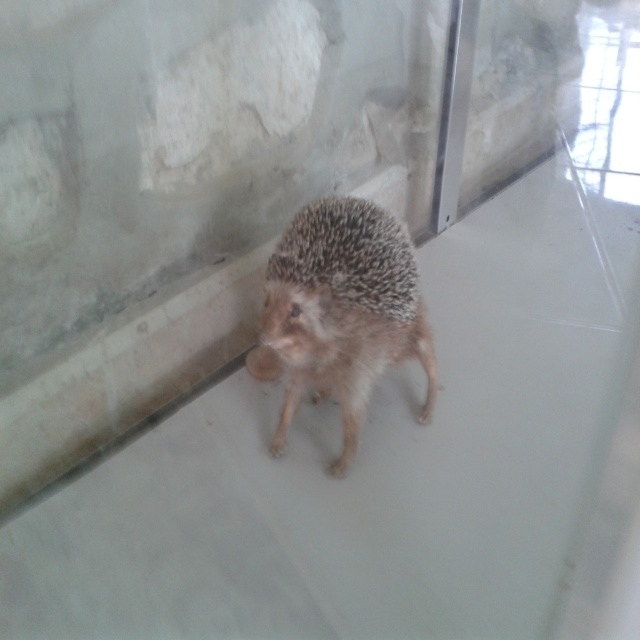Hedgehog: (255, 191, 440, 481)
